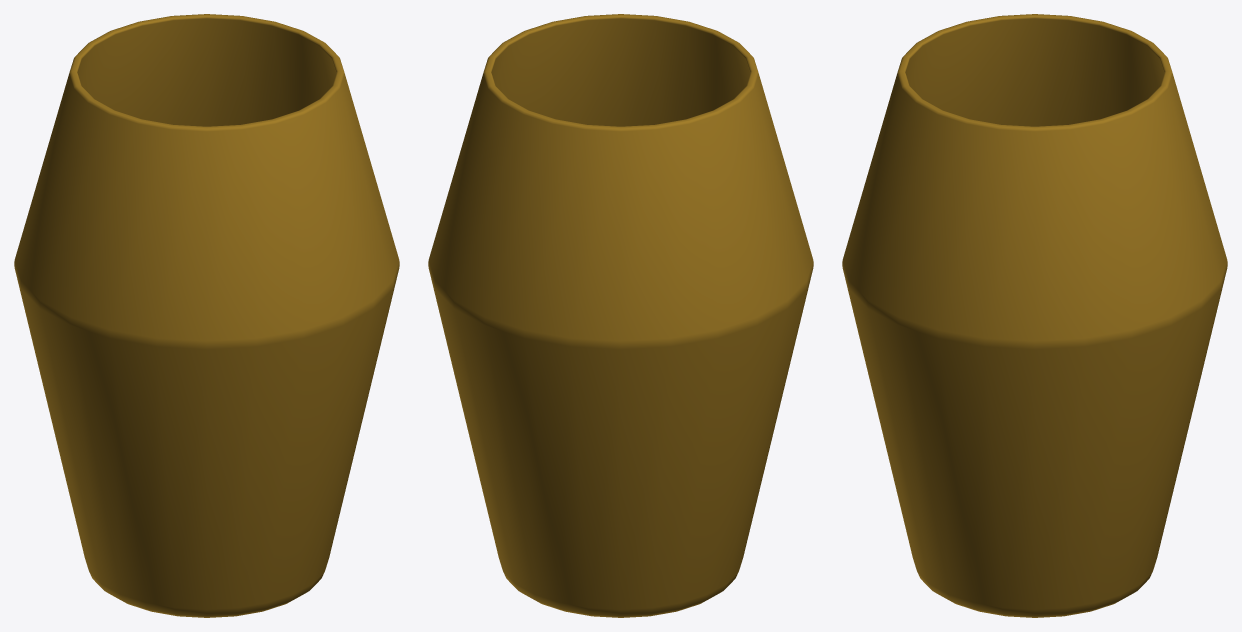
File: Pot_8.FBX
3 renders of one model, left to right at view 1: azimuth 30°, elevation 25°; view 2: azimuth 150°, elevation 25°; view 3: azimuth 270°, elevation 25°, orthographic.
Parts seen in each view (by area): view 1: Pot_8; view 2: Pot_8; view 3: Pot_8.
Boxes of the visible parts, x1=… form: Pot_8: x1=14, y1=14, x2=399, y2=617; Pot_8: x1=428, y1=14, x2=813, y2=617; Pot_8: x1=842, y1=14, x2=1227, y2=617.
Bounding box in the file's own units: 35.47 × 50.85 × 35.47.
